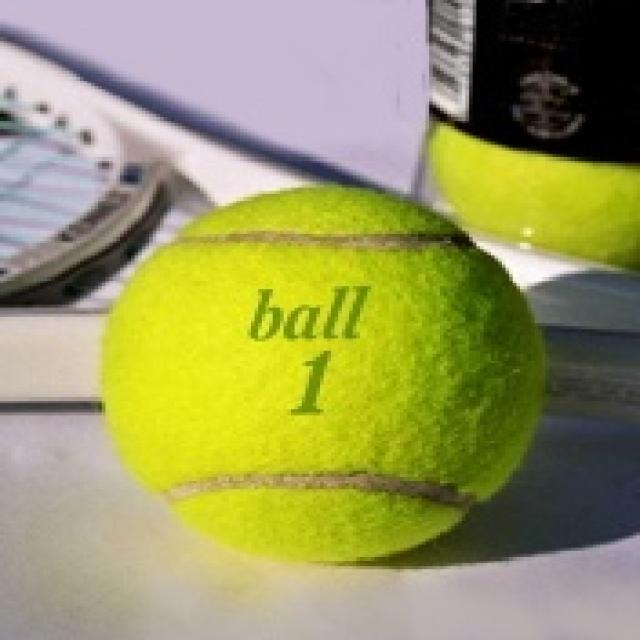Tennis Ball: (98, 185, 545, 569), (429, 123, 640, 271)
